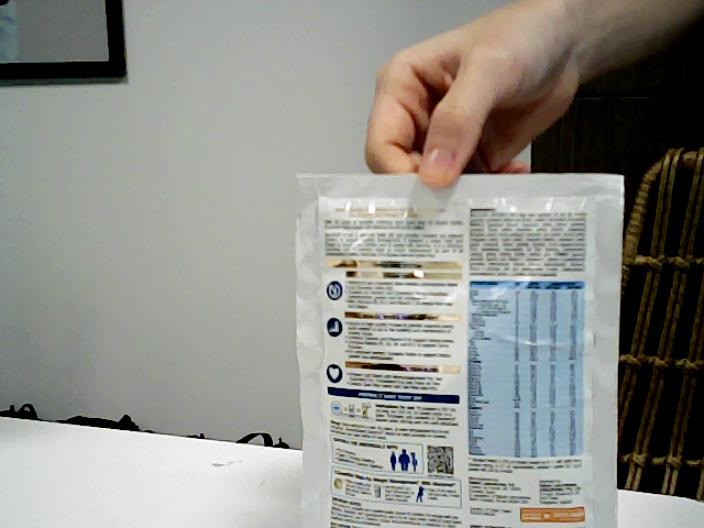Adult_Milk_0-99g_Halal_NonHealthy: (299, 180, 622, 528)
